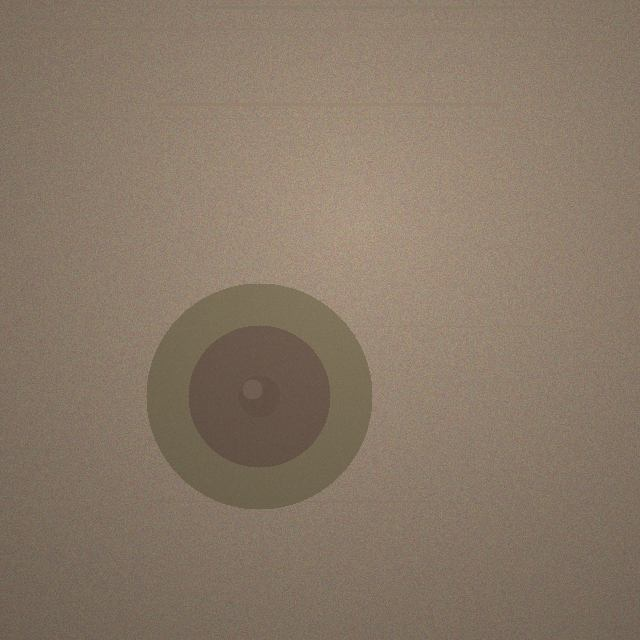good: (146, 283, 372, 509)
